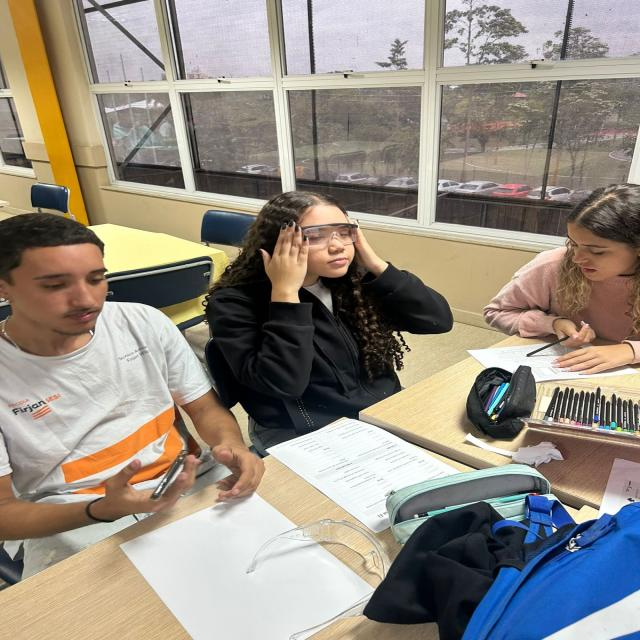oculos-epi: (246, 518, 393, 640), (302, 223, 358, 246)
sem_oculos: (0, 251, 117, 298), (538, 234, 632, 261)
